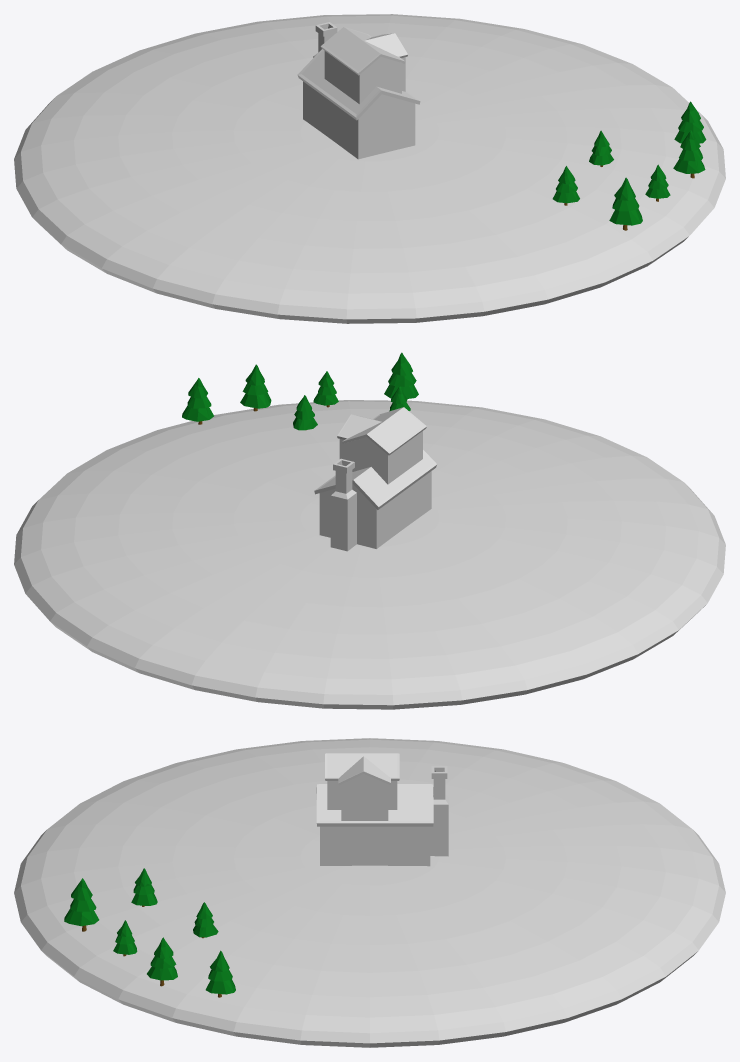
File: map.glb
The picture shows the model from 3 angles, top to bottom: view 1: azimuth 30°, elevation 25°; view 2: azimuth 150°, elevation 25°; view 3: azimuth 270°, elevation 25°; orthographic projection.
Parts seen in each view (by area): view 1: Sphere.001, Cube.056, Cylinder.003; view 2: Sphere.001, Cube.056, Cylinder.003; view 3: Sphere.001, Cube.056, Cylinder.003.
Boxes of the visible parts, left/top/right/bottom form: Sphere.001: left=14, top=14, right=725, bottom=323; Cube.056: left=297, top=22, right=420, bottom=159; Cylinder.003: left=552, top=101, right=706, bottom=230; Sphere.001: left=14, top=400, right=725, bottom=709; Cube.056: left=314, top=407, right=437, bottom=551; Cylinder.003: left=182, top=352, right=418, bottom=430; Sphere.001: left=14, top=738, right=725, bottom=1047; Cube.056: left=316, top=753, right=448, bottom=866; Cylinder.003: left=64, top=868, right=235, bottom=997.
Size of the model in its own units: 40.43 by 10.73 by 40.43.
